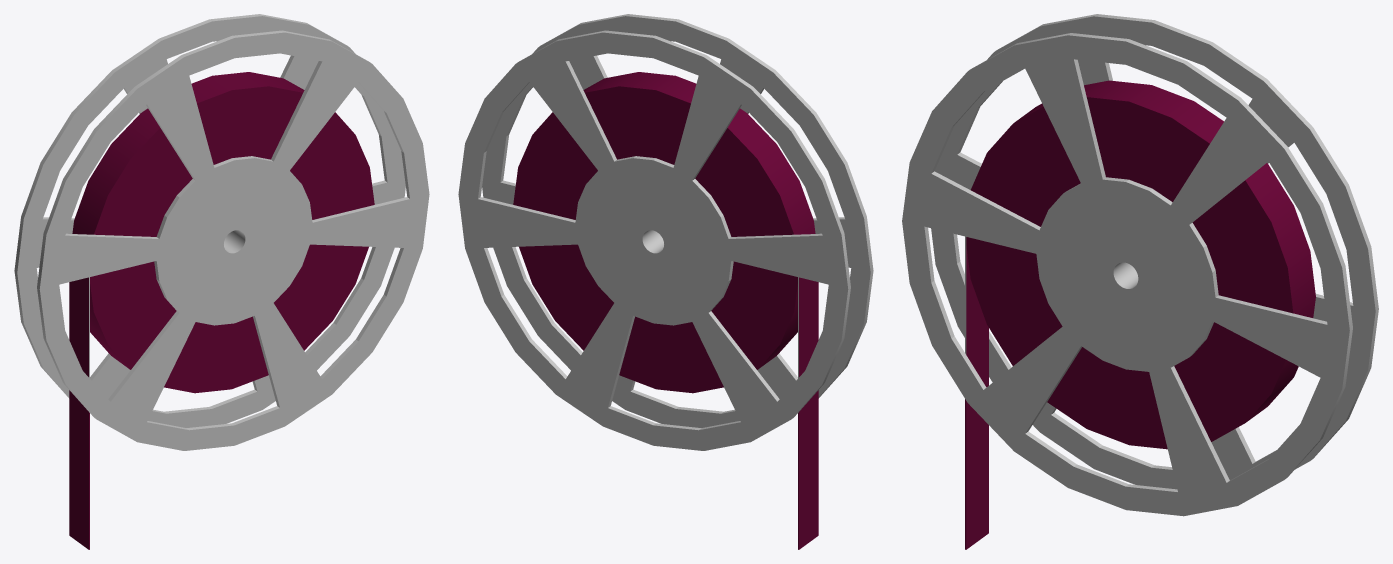
The model's file is Filmrol vol.fbx.
The picture shows the model from 3 angles, left to right: view 1: azimuth 30°, elevation 25°; view 2: azimuth 150°, elevation 25°; view 3: azimuth 330°, elevation 25°; orthographic projection. The views are drawn at different scales.
Parts seen in each view (by area): view 1: Model; view 2: Model; view 3: Model.
Part boxes in pixels (x1,y1,x2,y2): Model: (14,14,429,549); Model: (458,14,873,549); Model: (902,14,1378,549).
Size of the model in its own units: 360 by 423 by 40.5.
